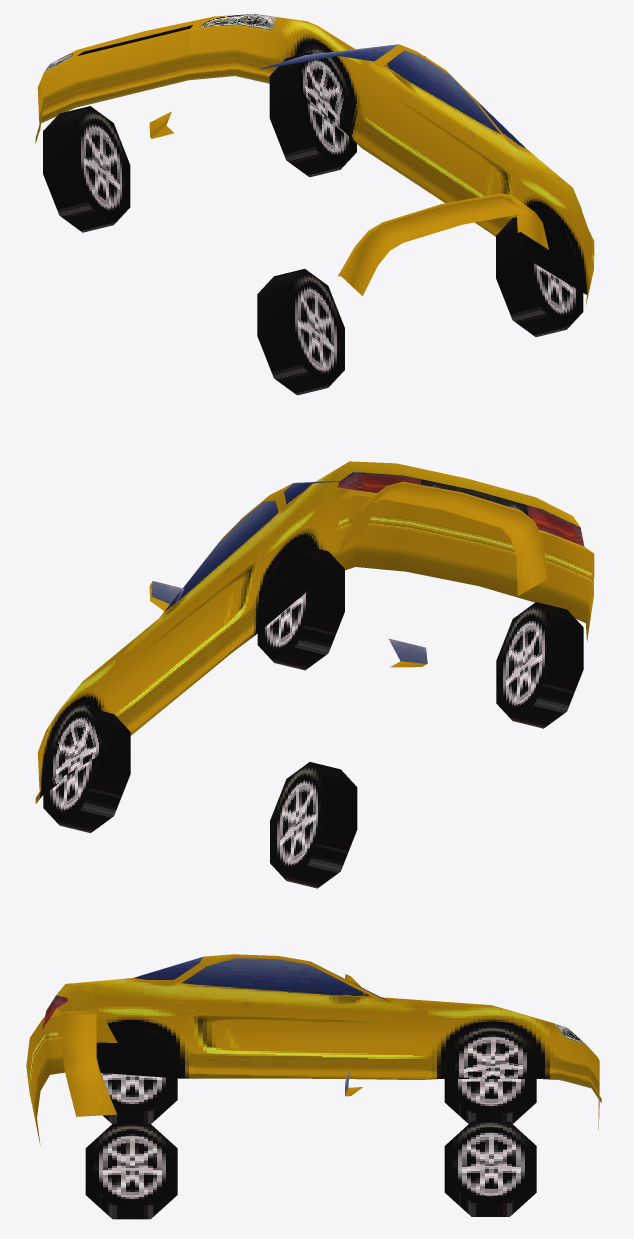
The model's file is ps2_save-icons_midnightclub.glb.
3 renders of one model, top to bottom at view 1: azimuth 30°, elevation 25°; view 2: azimuth 150°, elevation 25°; view 3: azimuth 270°, elevation 25°, orthographic. The views are drawn at different scales.
Visible parts, largest first — view 1: iconview.ico; view 2: iconview.ico; view 3: iconview.ico.
Part boxes in pixels (<box>): iconview.ico: <box>35,14,594,395</box>; iconview.ico: <box>35,461,594,888</box>; iconview.ico: <box>26,954,601,1219</box>.
Size of the model in its own units: 2.15 by 1.54 by 4.59.
1 material, 1 textured.
